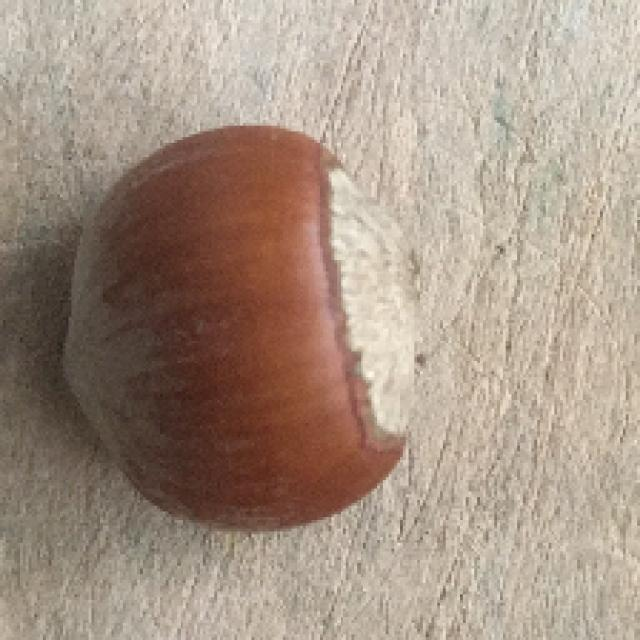qualityHazelnut: (53, 126, 428, 534)
